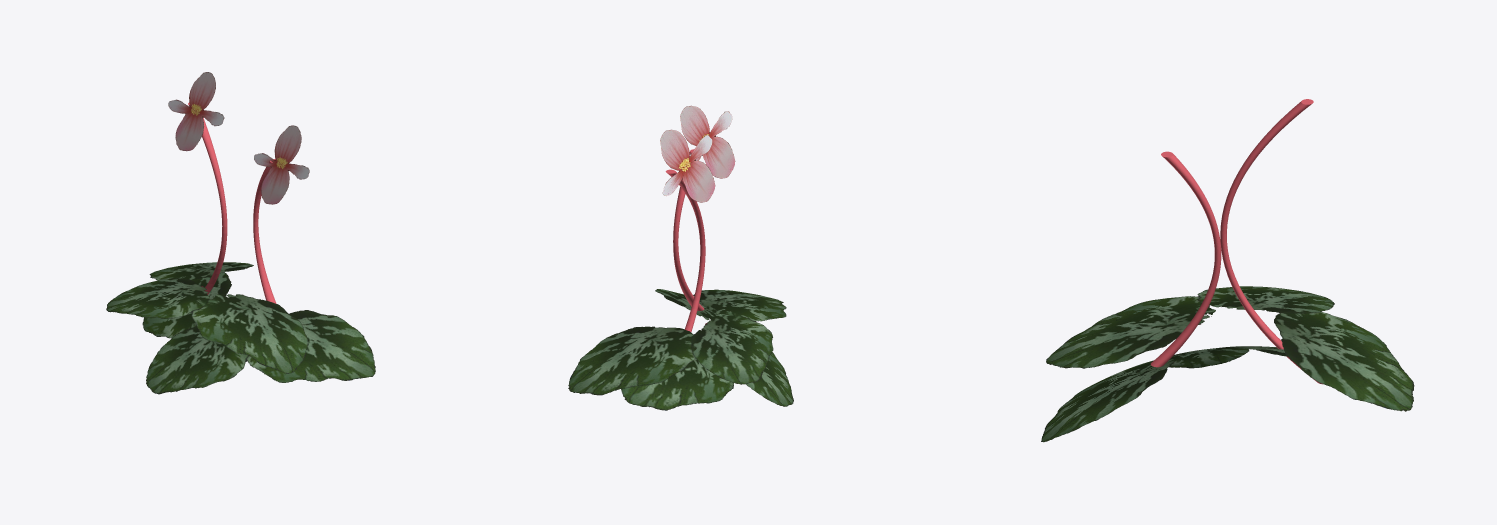
File: flower.glb
The picture shows the model from 3 angles, left to right: view 1: azimuth 30°, elevation 25°; view 2: azimuth 150°, elevation 25°; view 3: azimuth 270°, elevation 25°; orthographic projection. The views are drawn at different scales.
Bounding box in the file's own units: 1.32 × 1.42 × 1.35.
5 materials, 4 textured.
